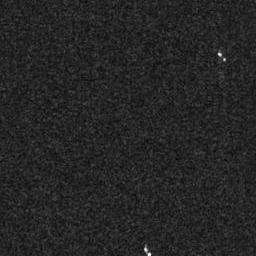ship: (143, 246, 153, 256)
